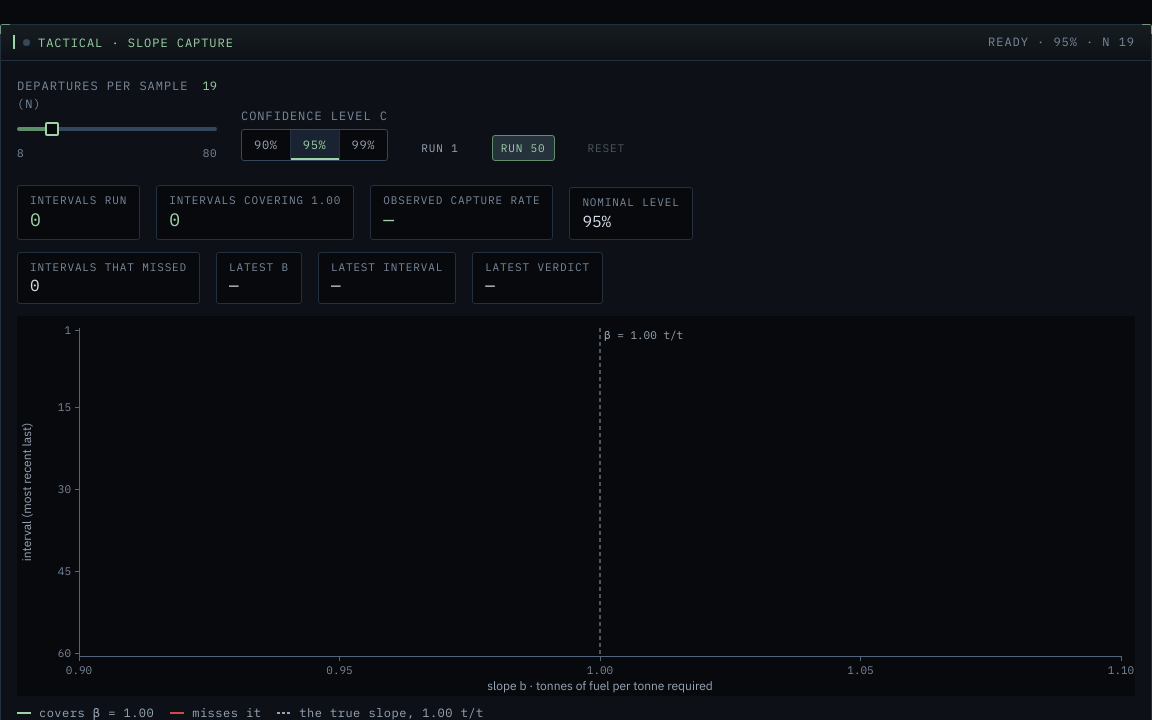
Scenario: <SlopeCaptureSimulator> › builds the interval the library builds, one run at a time
Click the button "RUN 1" at (440, 148), box left=412, top=135, right=468, bottom=161
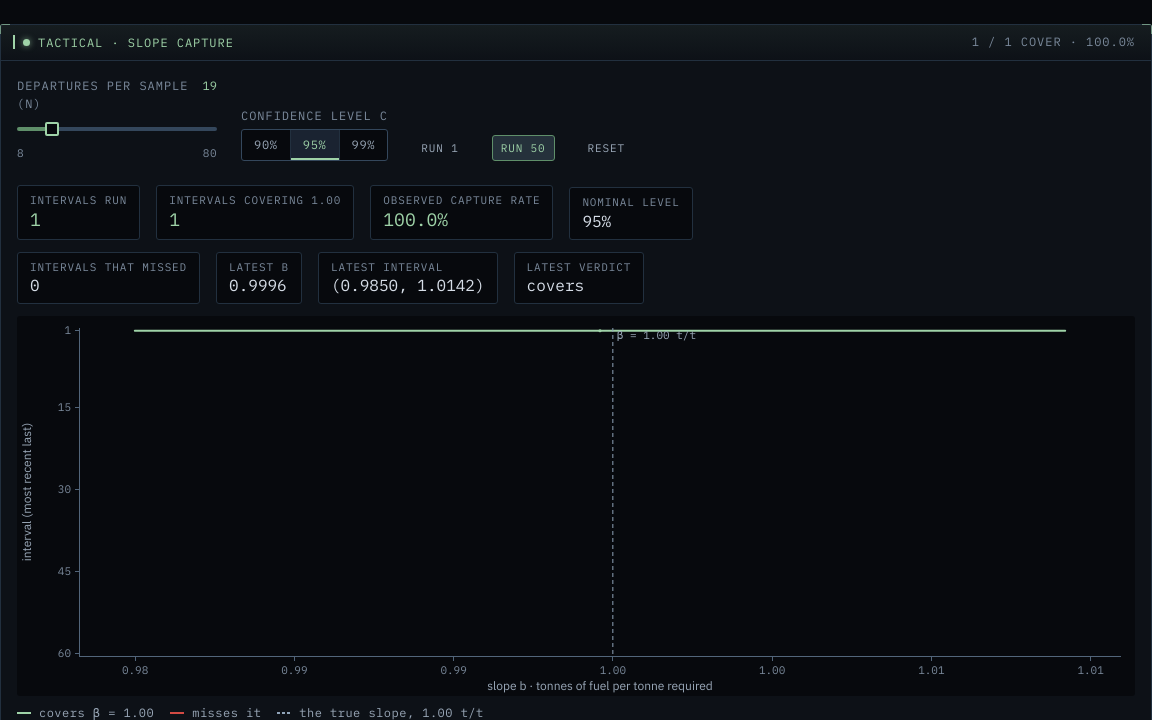
Expected: the 1st text "1" is shown, left=30, top=208, right=41, bottom=231
Expected: the text "0.9996" is shown, left=229, top=276, right=289, bottom=295
Expected: the text "covers" is shown, left=526, top=275, right=584, bottom=295
